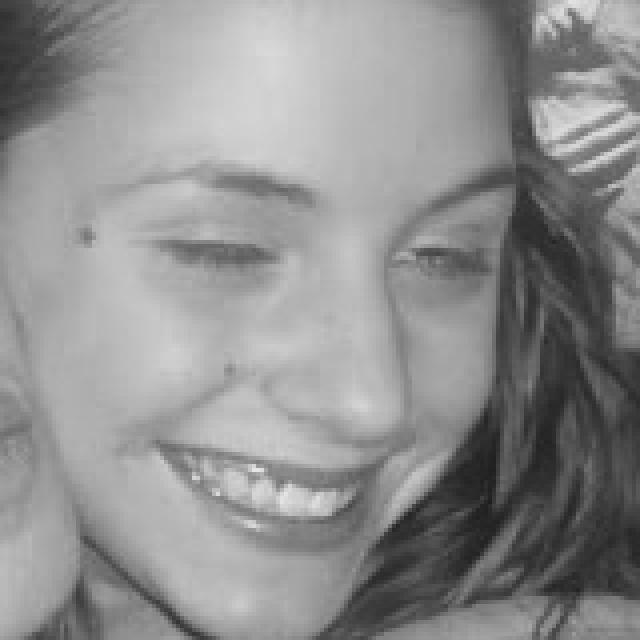real: (46, 92, 526, 640), (122, 182, 476, 316)
